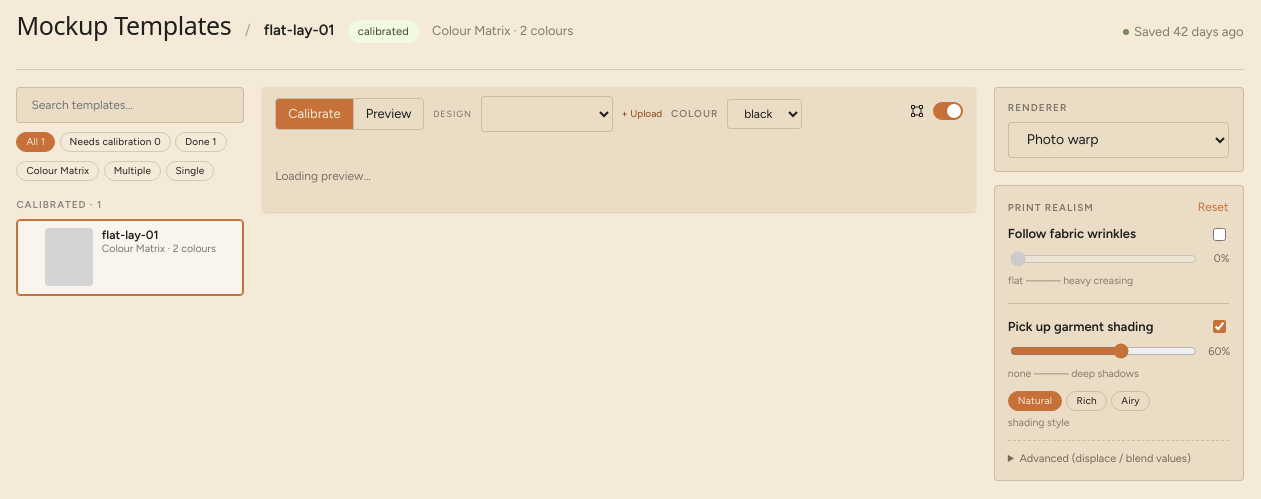
App › offers a reload for a conflicting save, and only for one
Set the slider named "Wrinkle strength" to "75": (1147, 259) top-left (1010, 251), bottom-right (1198, 267)
Wait 800 ms
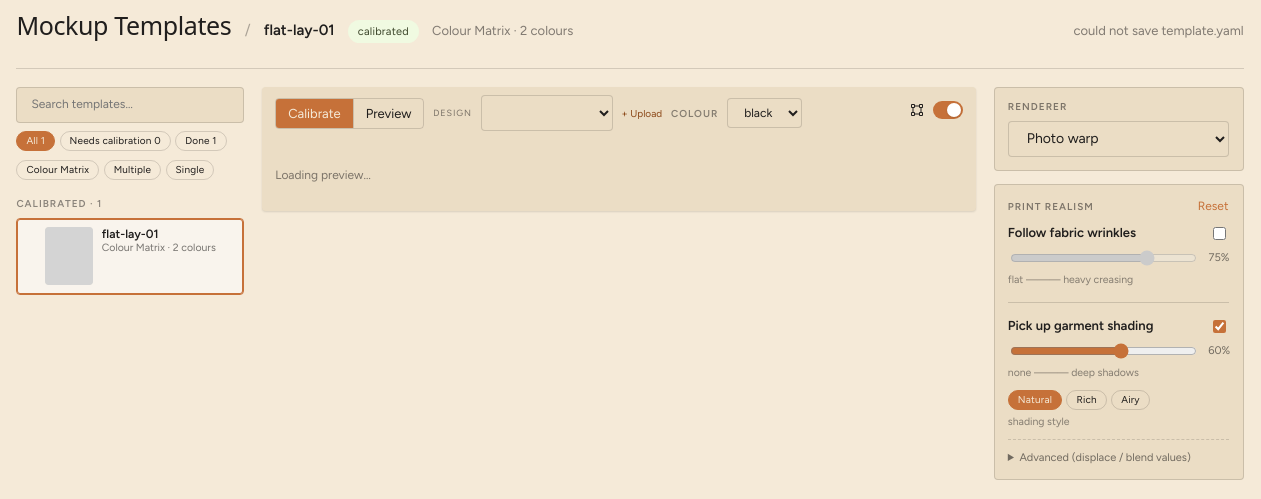
Expected: the button "Reload template" is not shown
Expected: the message reads "could not save template.yaml", top-left (1074, 23), bottom-right (1244, 38)
Set the slider named "Wrinkle strength" to "50": (1104, 258) top-left (1010, 250), bottom-right (1198, 266)
Wait 800 ms
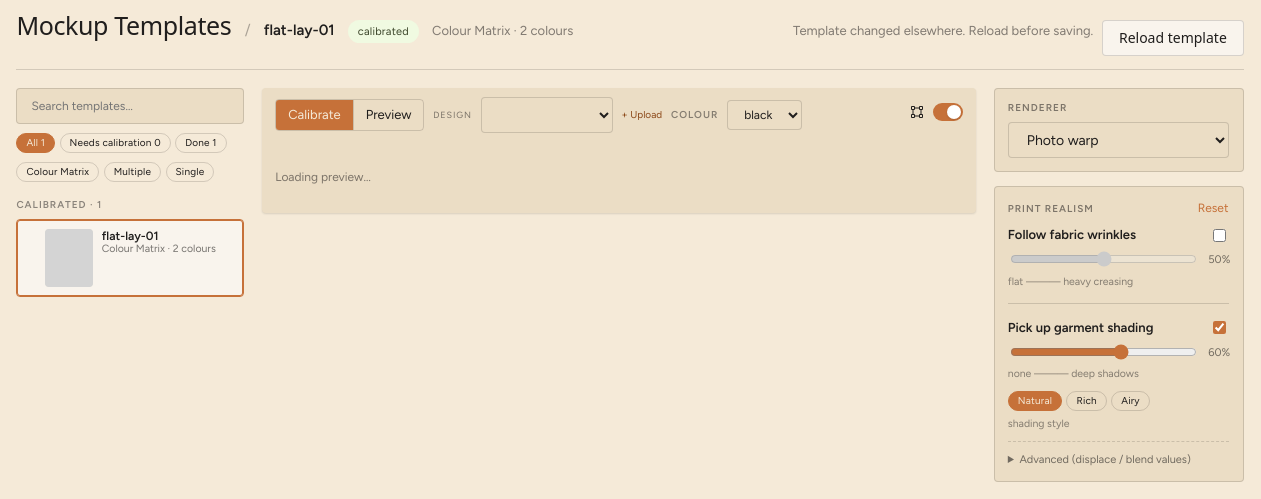
Expected: the message reads "Template changed elsewhere. Reload before saving.", top-left (793, 23), bottom-right (1093, 38)
Click the button "Reload template": (1173, 38) top-left (1102, 20), bottom-right (1244, 56)
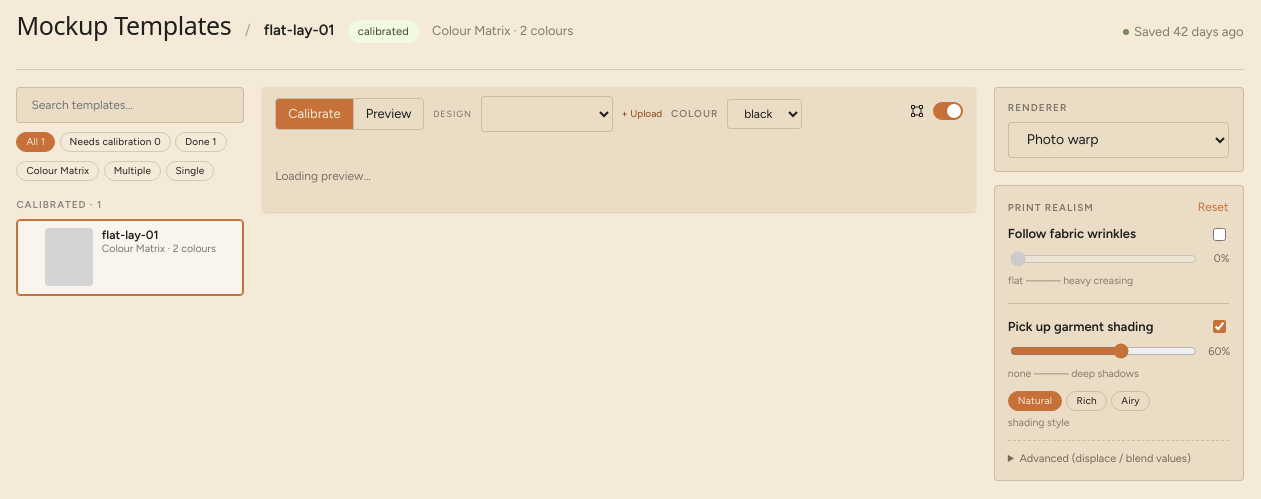
Expected: the text "Saved 42 days ago" is shown, top-left (1123, 22), bottom-right (1244, 42)
Expected: the button "Reload template" is gone
